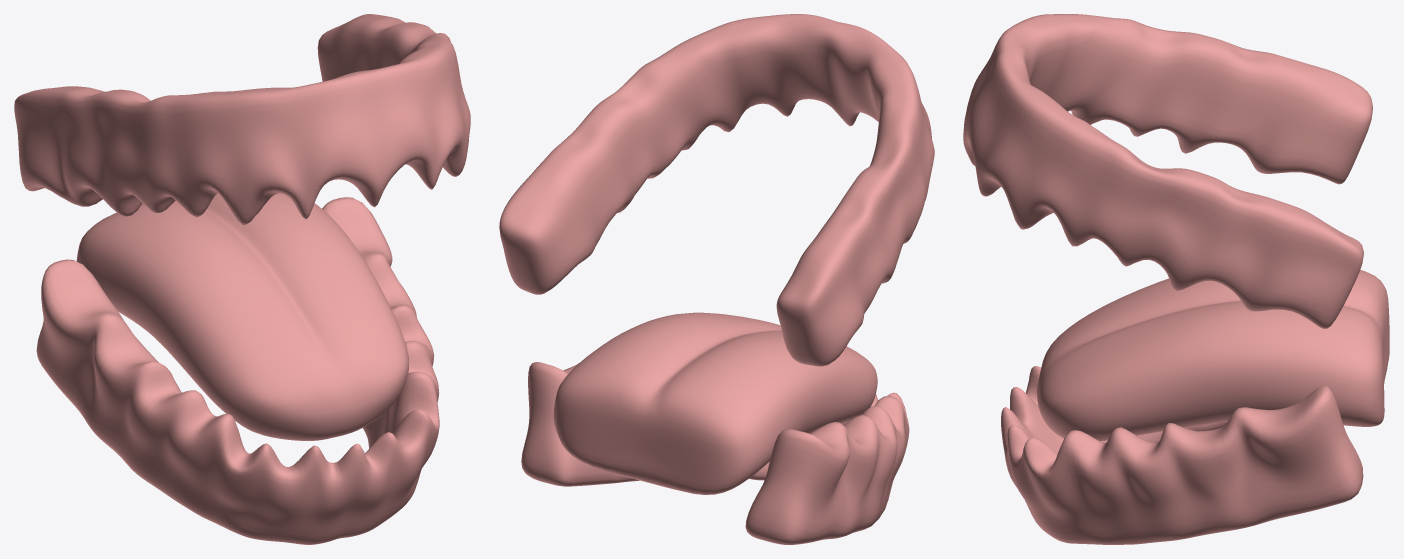
The model's file is gum_and_tongue.obj.
The picture shows the model from 3 angles, left to right: view 1: azimuth 30°, elevation 25°; view 2: azimuth 150°, elevation 25°; view 3: azimuth 270°, elevation 25°; orthographic projection. The views are drawn at different scales.
Parts seen in each view (by area): view 1: Gum_upper, Tongue, Gum_lower; view 2: Gum_upper, Tongue, Gum_lower; view 3: Gum_upper, Tongue, Gum_lower.
Part boxes in pixels (<box>): Gum_upper: <box>14,14,470,225</box>; Tongue: <box>76,193,408,440</box>; Gum_lower: <box>36,197,439,544</box>; Gum_upper: <box>499,14,934,366</box>; Tongue: <box>553,312,877,494</box>; Gum_lower: <box>521,362,909,544</box>; Gum_upper: <box>963,14,1372,328</box>; Tongue: <box>1037,270,1389,441</box>; Gum_lower: <box>1001,366,1363,544</box>.
Bounding box in the file's own units: 1.95 × 2.48 × 2.04.
